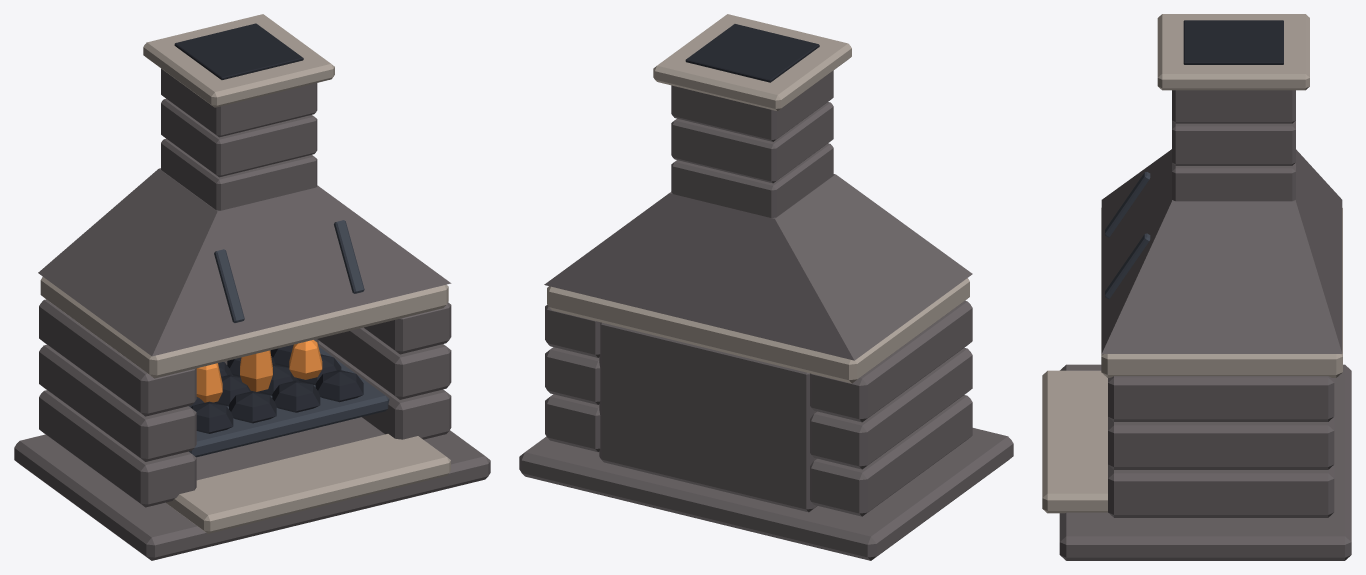
The model's file is 01_Hearth_Forge.glb.
3 views of the same model, side by side, from view 1: azimuth 30°, elevation 25°; view 2: azimuth 150°, elevation 25°; view 3: azimuth 270°, elevation 25° (orthographic). The views are drawn at different scales.
Visible parts, largest first — view 1: 01_Hearth_Forge__Body; view 2: 01_Hearth_Forge__Body; view 3: 01_Hearth_Forge__Body.
Boxes of the visible parts, left/top/right/bottom form: 01_Hearth_Forge__Body: left=14, top=14, right=490, bottom=560; 01_Hearth_Forge__Body: left=519, top=14, right=1013, bottom=560; 01_Hearth_Forge__Body: left=1042, top=14, right=1351, bottom=560.
Size of the model in its own units: 4.6 by 5.26 by 3.39.
Materials: 1 (1 with a texture image).
